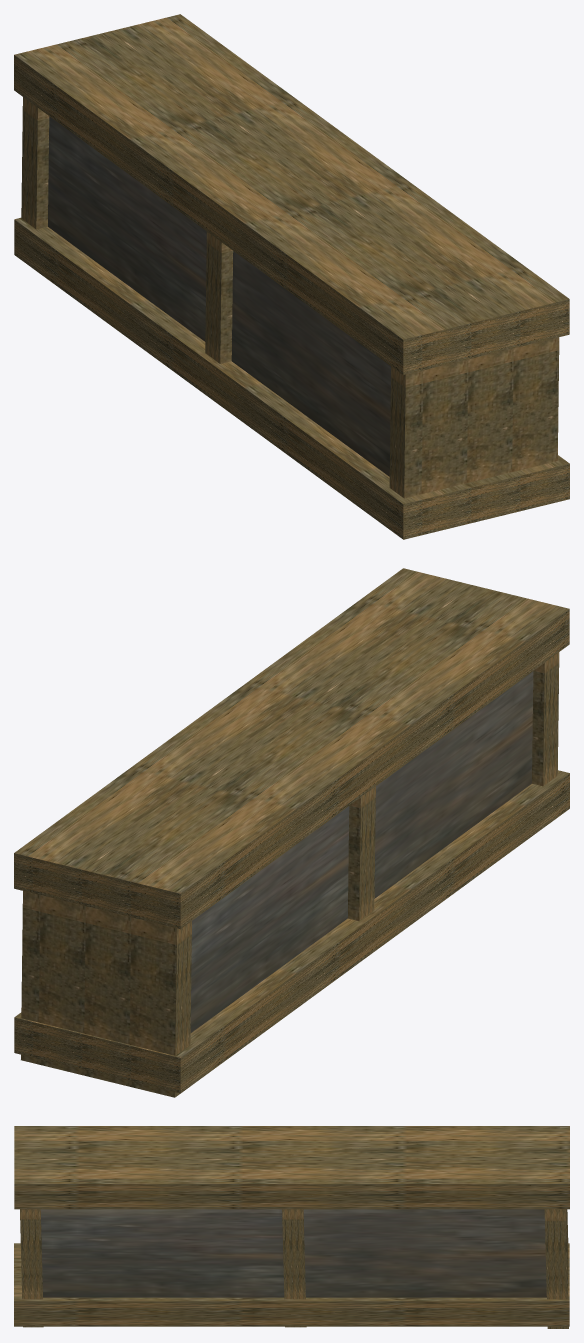
File: woodbench.glb
3 views of the same model, one above another, from view 1: azimuth 30°, elevation 25°; view 2: azimuth 150°, elevation 25°; view 3: azimuth 270°, elevation 25° (orthographic). The views are drawn at different scales.
Visible parts, largest first — view 1: bench.ms3d.mo; view 2: bench.ms3d.mo; view 3: bench.ms3d.mo.
Part boxes in pixels (box(x1,y1,x2,y2)): bench.ms3d.mo: box(14, 14, 569, 539); bench.ms3d.mo: box(14, 568, 569, 1097); bench.ms3d.mo: box(14, 1126, 569, 1328).
Size of the model in its own units: 13.07 by 15.45 by 52.95.
2 materials, 2 textured.
